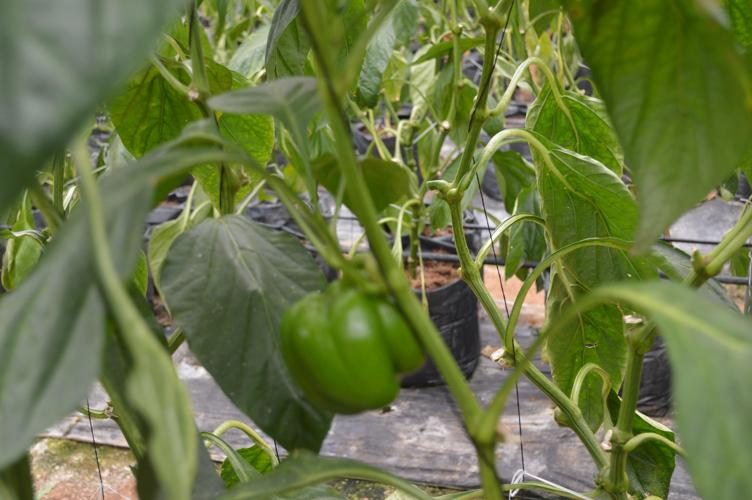BellPepper: (282, 282, 424, 412)
